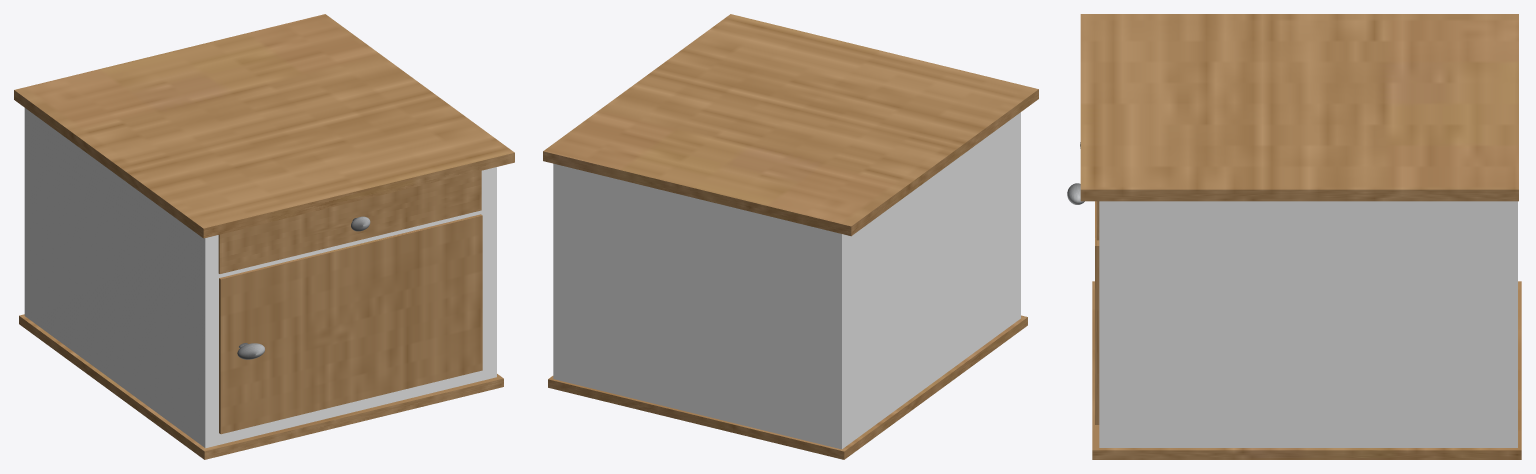
The model's file is Kitchen Unit 1 Door & Drawer (left).fbx.
3 views of the same model, side by side, from view 1: azimuth 30°, elevation 25°; view 2: azimuth 150°, elevation 25°; view 3: azimuth 270°, elevation 25° (orthographic). The views are drawn at different scales.
Visible parts, largest first — view 1: Counter, Base, Door 1, Door 2, Base.001; view 2: Base, Counter, Base.001; view 3: Base, Counter, Base.001, Door 1.
Boxes of the visible parts, x1,y1,x2,y2 form: Counter: (14,14,514,238); Base: (24,108,496,448); Door 1: (219,214,482,434); Door 2: (218,170,481,273); Base.001: (19,314,503,459); Base: (553,112,1020,449); Counter: (543,14,1038,236); Base.001: (548,315,1027,459); Base: (1099,201,1517,447); Counter: (1080,14,1518,201); Base.001: (1092,281,1521,459); Door 1: (1095,201,1099,424).
Bounding box in the file's own units: 0.8688 × 0.6306 × 0.9492.
